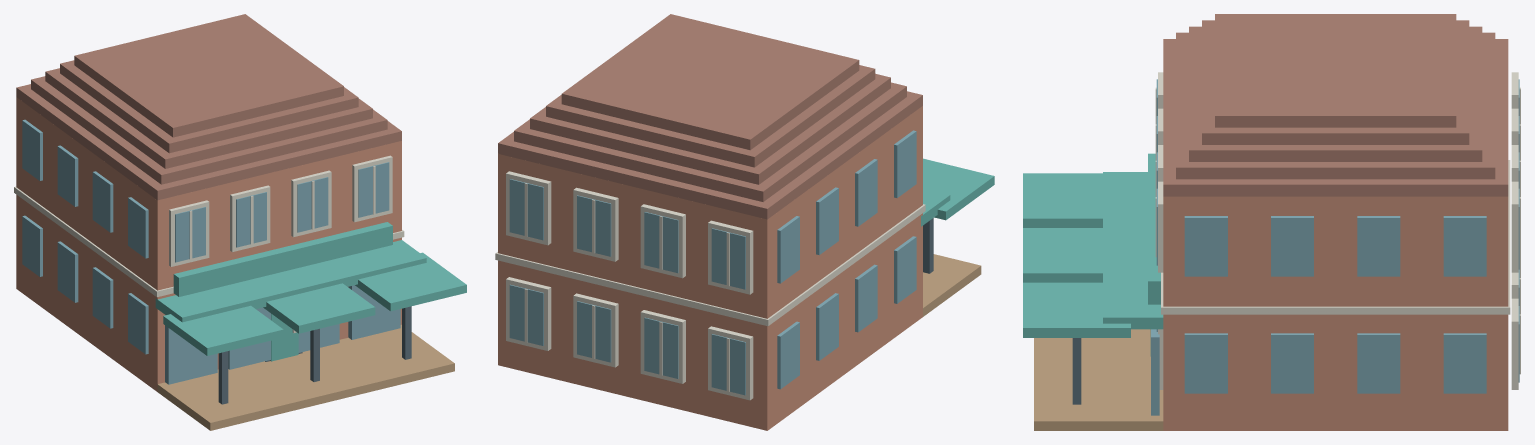
Rendered from vRest.glb.
The picture shows the model from 3 angles, left to right: view 1: azimuth 30°, elevation 25°; view 2: azimuth 150°, elevation 25°; view 3: azimuth 270°, elevation 25°; orthographic projection. The views are drawn at different scales.
Visible parts, largest first — view 1: restaurant-terrace-roof, restaurant-terrace-brick, restaurant-terrace-accent, restaurant-terrace-glass, restaurant-terrace-wood, restaurant-terrace-concrete, restaurant-terrace-dark; view 2: restaurant-terrace-brick, restaurant-terrace-roof, restaurant-terrace-glass, restaurant-terrace-concrete, restaurant-terrace-accent, restaurant-terrace-wood, restaurant-terrace-dark; view 3: restaurant-terrace-roof, restaurant-terrace-brick, restaurant-terrace-glass, restaurant-terrace-accent, restaurant-terrace-wood, restaurant-terrace-concrete, restaurant-terrace-dark.
Boxes of the visible parts, left/top/right/bottom form: restaurant-terrace-roof: left=16, top=14, right=401, bottom=200; restaurant-terrace-brick: left=16, top=97, right=401, bottom=391; restaurant-terrace-accent: left=155, top=222, right=466, bottom=361; restaurant-terrace-glass: left=22, top=119, right=400, bottom=384; restaurant-terrace-wood: left=157, top=324, right=454, bottom=430; restaurant-terrace-concrete: left=14, top=155, right=404, bottom=332; restaurant-terrace-dark: left=218, top=306, right=411, bottom=404; restaurant-terrace-brick: left=498, top=106, right=922, bottom=430; restaurant-terrace-roof: left=498, top=14, right=922, bottom=219; restaurant-terrace-glass: left=509, top=130, right=916, bottom=395; restaurant-terrace-concrete: left=495, top=171, right=925, bottom=400; restaurant-terrace-accent: left=921, top=158, right=994, bottom=226; restaurant-terrace-wood: left=923, top=254, right=981, bottom=316; restaurant-terrace-dark: left=923, top=218, right=933, bottom=273; restaurant-terrace-roof: left=1163, top=14, right=1508, bottom=196; restaurant-terrace-brick: left=1163, top=196, right=1508, bottom=430; restaurant-terrace-glass: left=1151, top=79, right=1519, bottom=415; restaurant-terrace-accent: left=1023, top=153, right=1163, bottom=356; restaurant-terrace-wood: left=1034, top=329, right=1163, bottom=430; restaurant-terrace-concrete: left=1155, top=72, right=1520, bottom=389; restaurant-terrace-dark: left=1072, top=338, right=1081, bottom=404.
Bounding box in the file's own units: 8.5 × 7.5 × 11.54.
